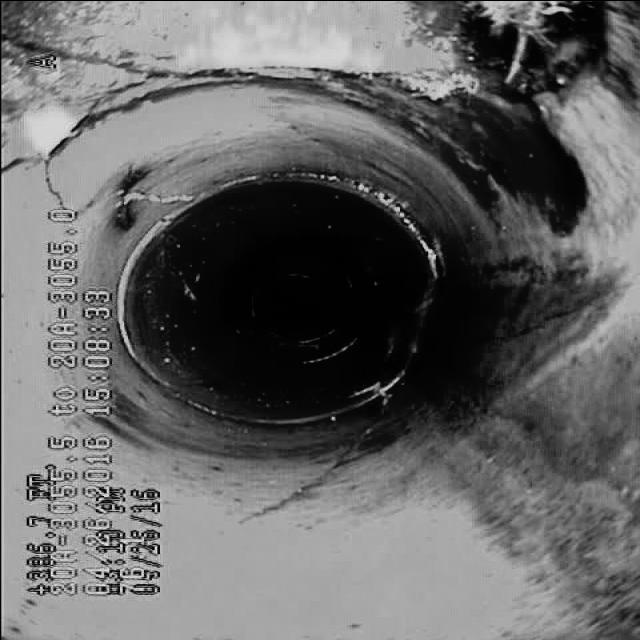Fracture: (13, 26, 220, 188)
